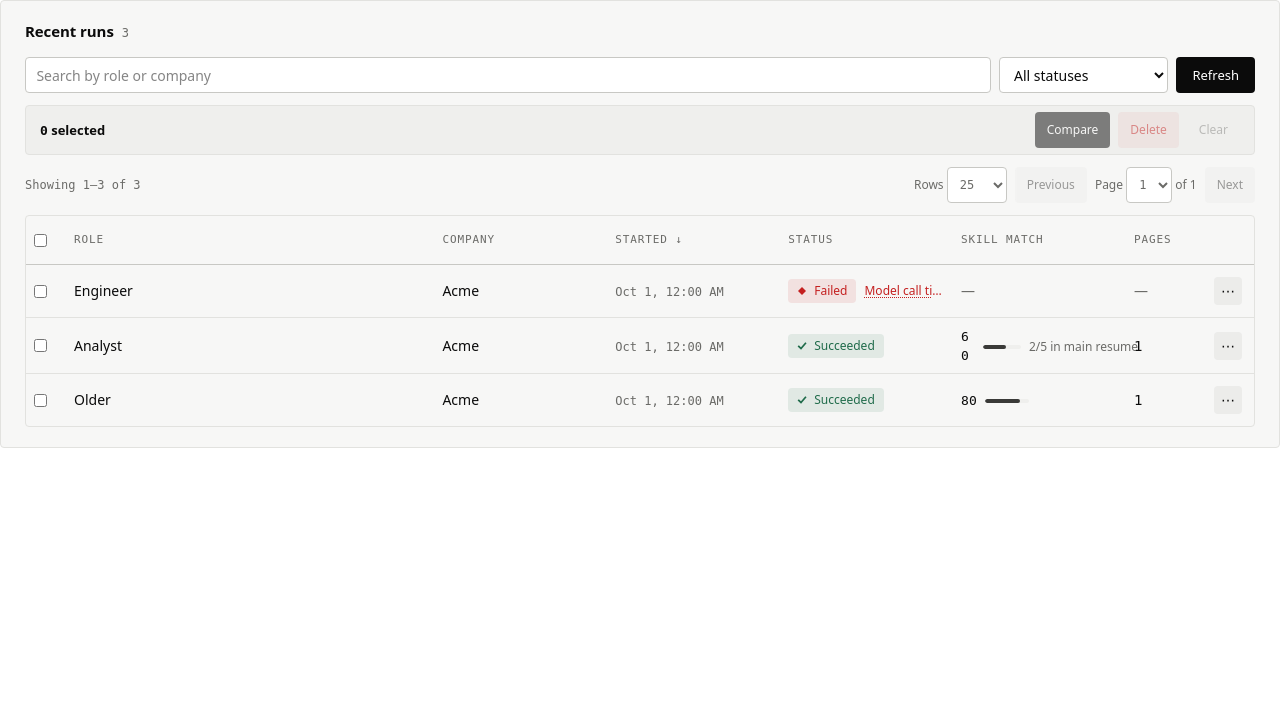
Test: RunHistoryPanel › shows a failed run's error on one line, with the full text a click away
Step 1. Click the button with aria-label "Error details: Model call timed out" → (905, 291), box [864,283,945,299]
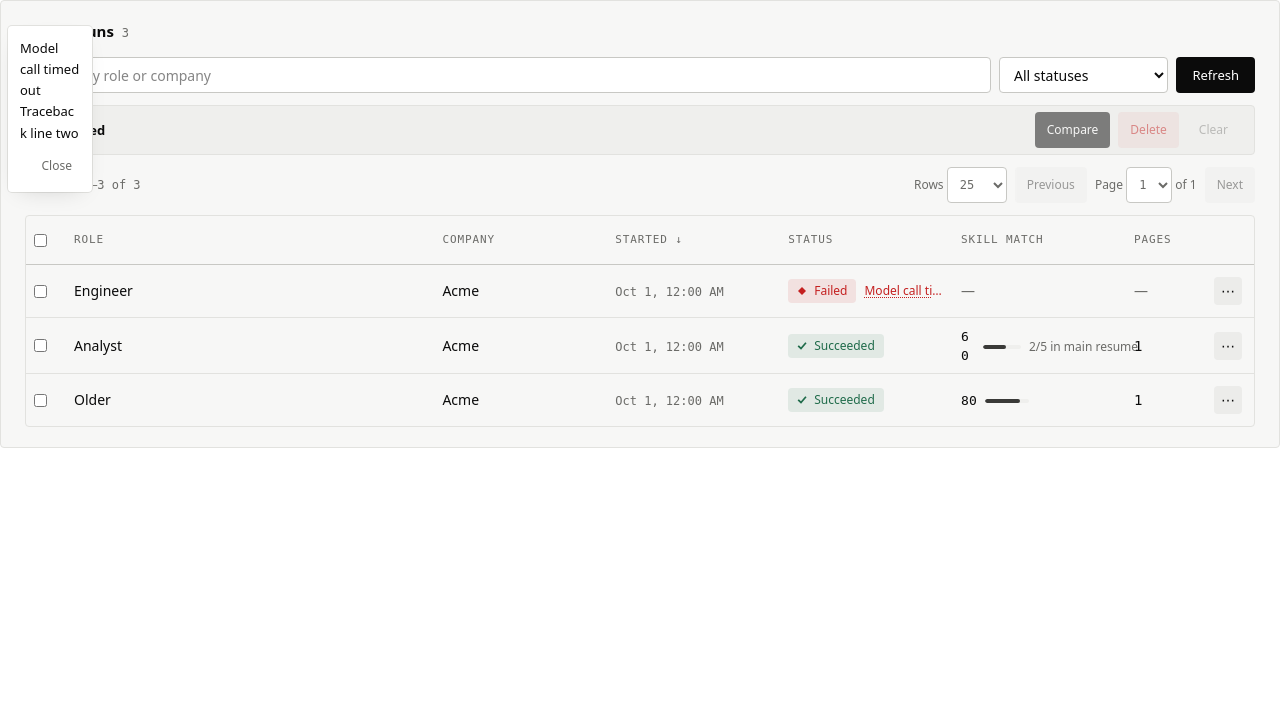
Expected: the dialog named "Error details" shows "Traceback line two", [20,39,82,142]
